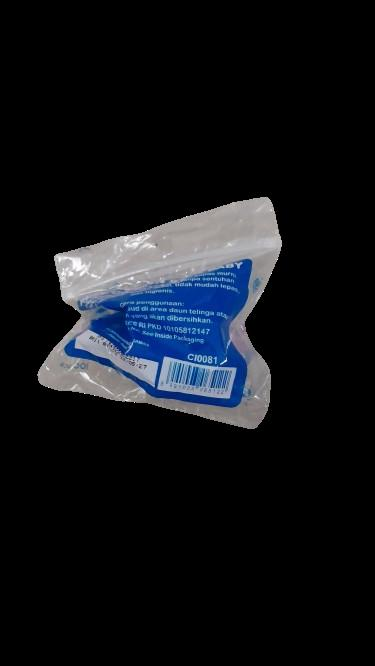Plastik: (36, 185, 283, 438)
